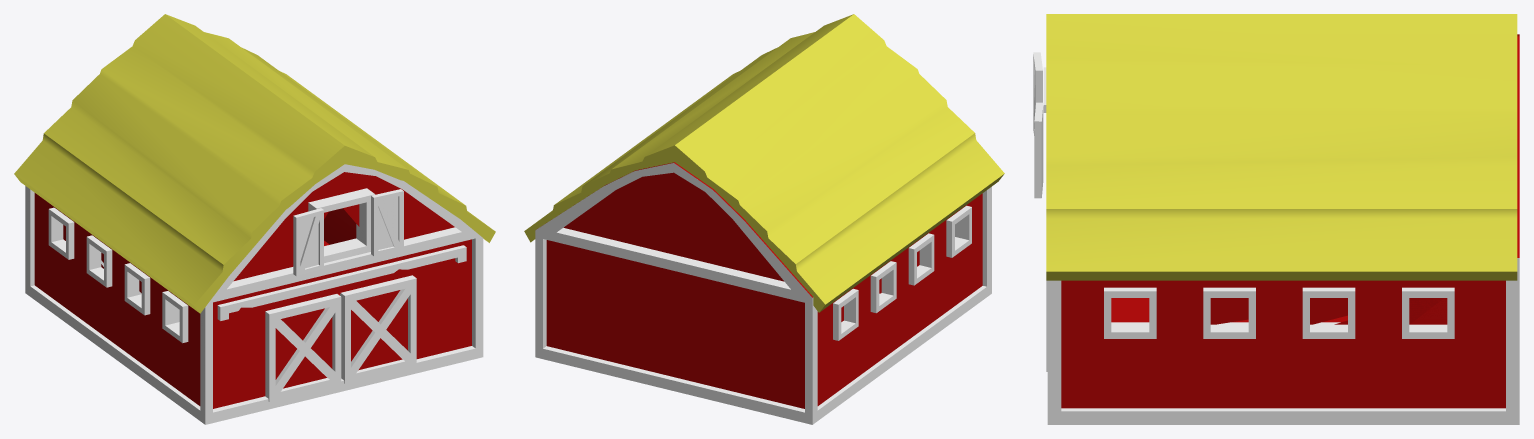
The model's file is trailsideBarn.glb.
3 views of the same model, side by side, from view 1: azimuth 30°, elevation 25°; view 2: azimuth 150°, elevation 25°; view 3: azimuth 270°, elevation 25° (orthographic). The views are drawn at different scales.
Visible parts, largest first — view 1: Object_17, Object_18, Object_13; view 2: Object_17, Object_13, Object_18; view 3: Object_17, Object_13, Object_18.
Part boxes in pixels (x1=…): Object_17: x1=14, y1=14, x2=495, y2=313; Object_18: x1=25, y1=164, x2=483, y2=424; Object_13: x1=34, y1=172, x2=471, y2=408; Object_17: x1=524, y1=14, x2=1004, y2=312; Object_13: x1=546, y1=162, x2=982, y2=408; Object_18: x1=535, y1=163, x2=991, y2=424; Object_17: x1=1046, y1=14, x2=1517, y2=280; Object_13: x1=1061, y1=34, x2=1519, y2=408; Object_18: x1=1033, y1=52, x2=1519, y2=424.
Bounding box in the file's own units: 2.81 × 2.19 × 2.99.
